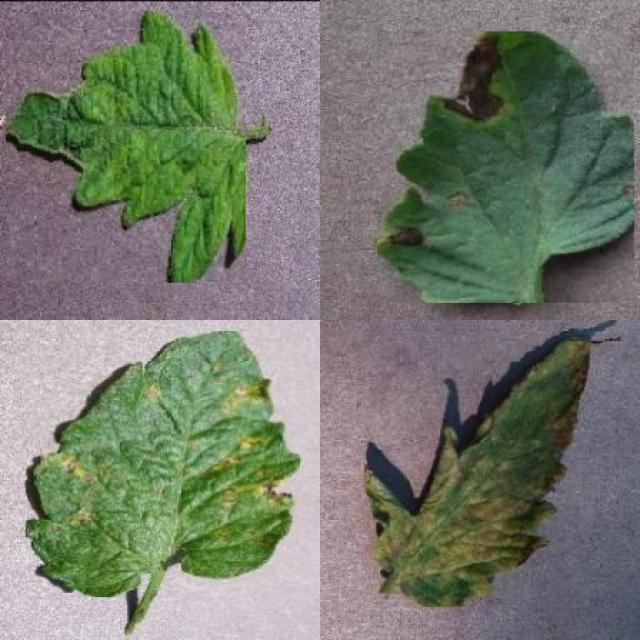Early Blight: (378, 32, 635, 304)
Leaf Mold: (364, 334, 590, 607)
Mosaic Virus: (7, 12, 246, 282)
Septoria: (26, 327, 300, 597)
